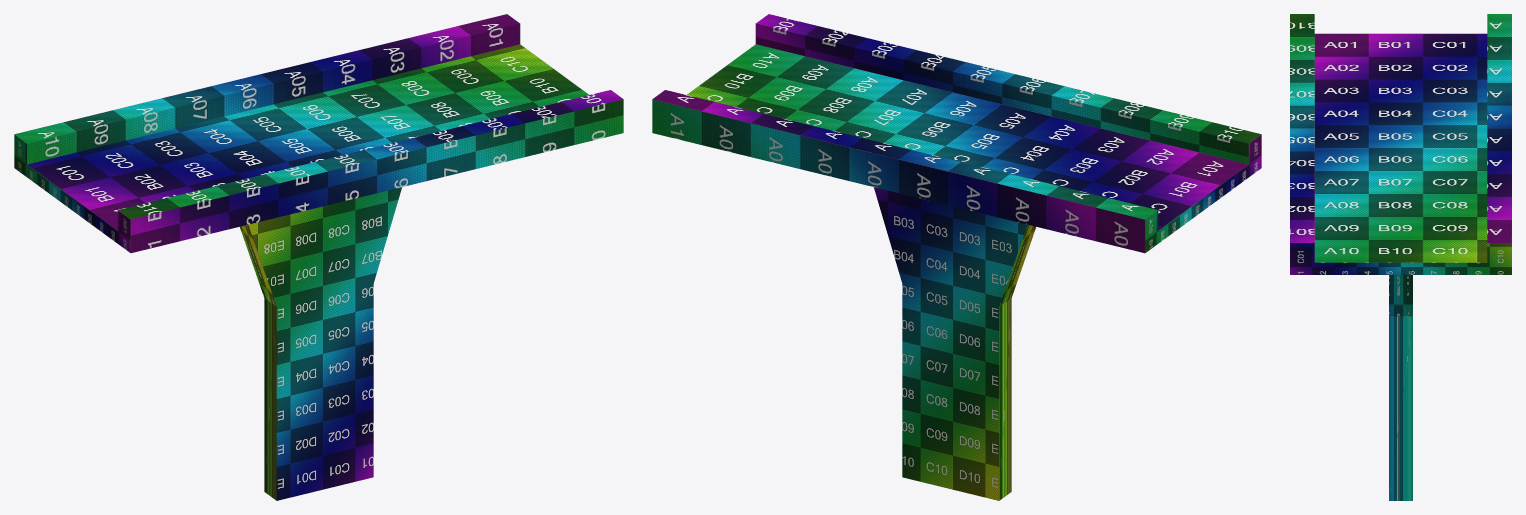
Rendered from bidge_pillar.fbx.
3 renders of one model, left to right at view 1: azimuth 30°, elevation 25°; view 2: azimuth 150°, elevation 25°; view 3: azimuth 270°, elevation 25°, orthographic. The views are drawn at different scales.
Parts seen in each view (by area): view 1: 立方体.012; view 2: 立方体.012; view 3: 立方体.012.
Part boxes in pixels (x1,y1,x2,y2): 立方体.012: (14, 14, 623, 500); 立方体.012: (652, 14, 1261, 500); 立方体.012: (1290, 14, 1511, 500).
Bounding box in the file's own units: 2053 × 1464 × 841.
